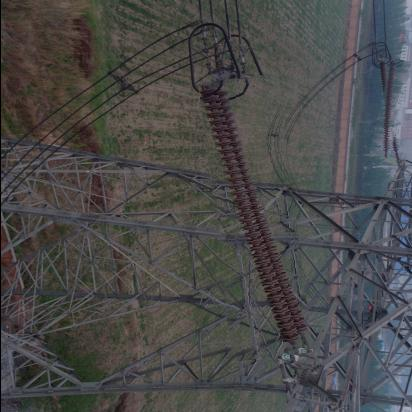insulator: (207, 77, 305, 361), (375, 59, 406, 159)
